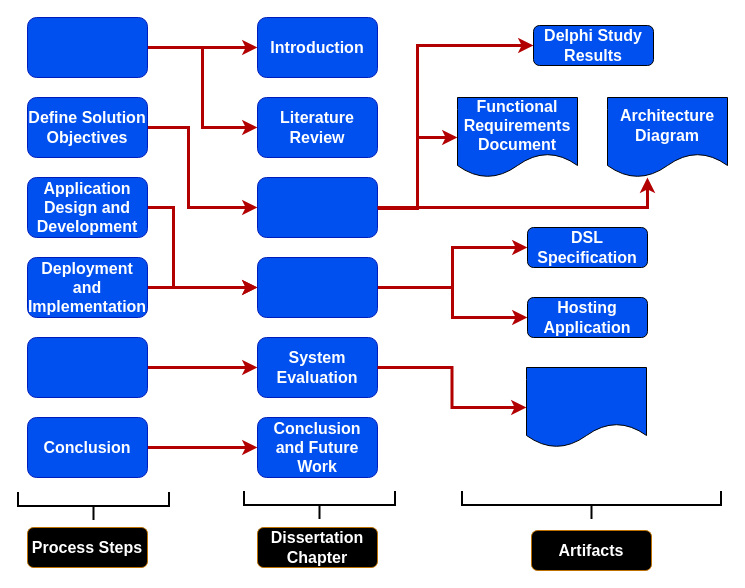
Image size: 745x588. Some labels were removed from this diagram. The shapes that lost their labels are listed below. From the top down, each one's box as (x1, y1, x2, y2) in pixels, then its label:
(26, 16, 148, 78): Identify and Define Problem
(256, 176, 378, 238): Requirements Modeling
(256, 256, 378, 318): Prototype Development
(26, 336, 148, 398): Evaluation
(526, 366, 646, 448): Evaluation Matrix
